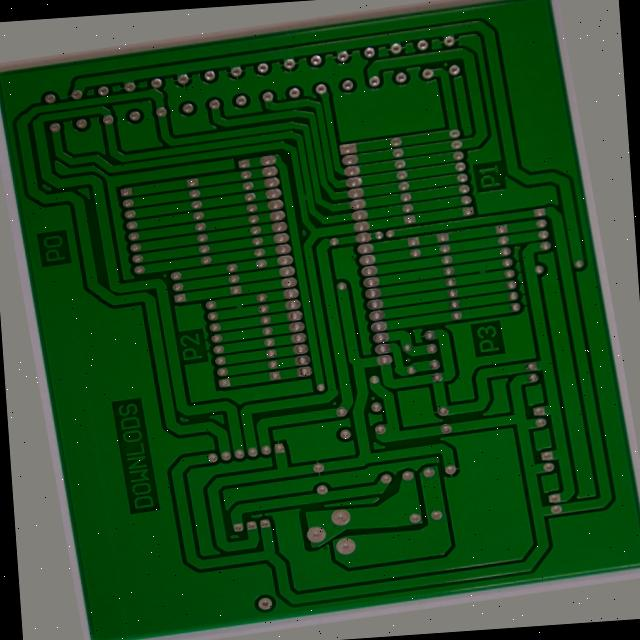short: (219, 289, 245, 310), (491, 271, 516, 291), (306, 179, 328, 198)
